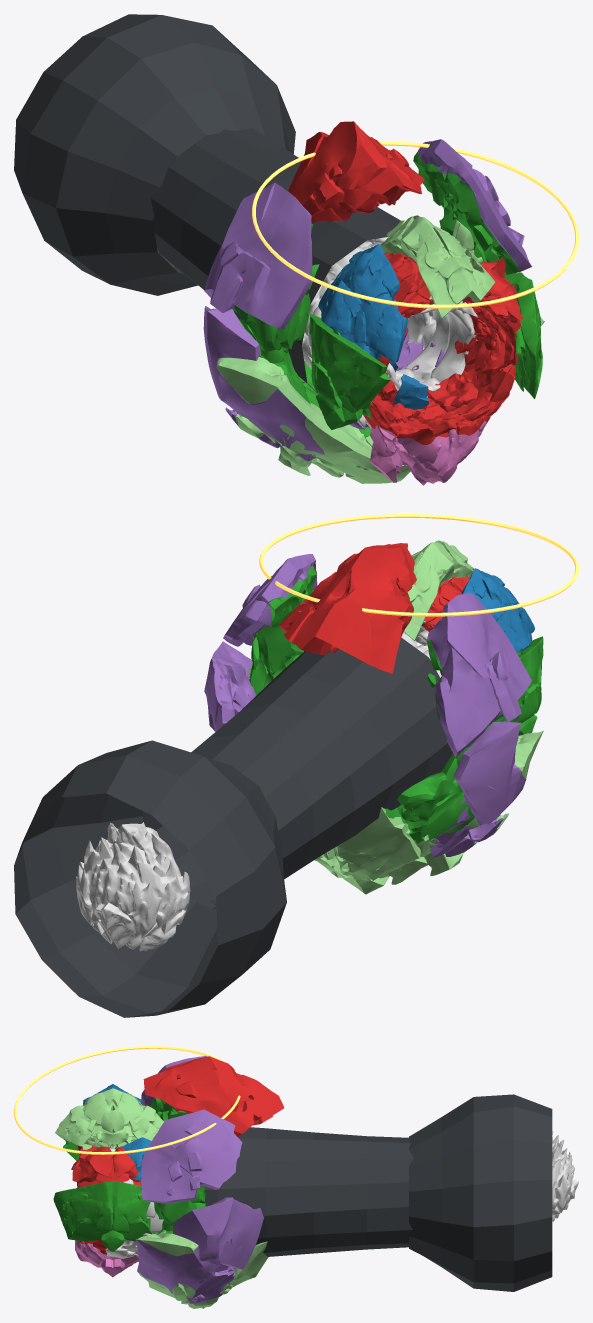
Rendered from DL_Aurora_v01.glb.
The picture shows the model from 3 angles, top to bottom: view 1: azimuth 30°, elevation 25°; view 2: azimuth 150°, elevation 25°; view 3: azimuth 270°, elevation 25°; orthographic projection. The views are drawn at different scales.
Visible parts, largest first — view 1: DL_ThresholdChamber, DL_TunnelShell, DL_MeshyCrown_01, DL_OuterRing_05, DL_OuterRing_03, DL_OuterRing_08, DL_OuterRing_09, DL_MeshyCrown_04, DL_MeshyCrown_03, DL_OuterRing_06, DL_MeshyCrown_05, DL_MeshyCrown_06 (+8 smaller); view 2: DL_ThresholdChamber, DL_TunnelShell, DL_LatentShell, DL_OuterRing_03, DL_OuterRing_05, DL_OuterRing_09, DL_OuterRing_08, DL_OuterRing_06, DL_OuterRing_07, DL_OuterRing_02, DL_MeshyCrown_03, DL_Halo (+3 smaller); view 3: DL_ThresholdChamber, DL_TunnelShell, DL_OuterRing_07, DL_OuterRing_02, DL_OuterRing_03, DL_MeshyCrown_02, DL_MeshyCrown_03, DL_OuterRing_08, DL_MeshyCrown_01, DL_Halo, DL_LatentShell, DL_OuterRing_09 (+4 smaller).
Part boxes in pixels (left/top/right/bottom): DL_ThresholdChamber: left=14, top=14, right=295, bottom=295; DL_TunnelShell: left=150, top=128, right=400, bottom=393; DL_MeshyCrown_01: left=363, top=252, right=523, bottom=445; DL_OuterRing_05: left=204, top=182, right=312, bottom=329; DL_OuterRing_03: left=288, top=121, right=424, bottom=222; DL_OuterRing_08: left=216, top=316, right=543, bottom=483; DL_OuterRing_09: left=232, top=152, right=519, bottom=437; DL_MeshyCrown_04: left=318, top=244, right=407, bottom=362; DL_MeshyCrown_03: left=380, top=215, right=495, bottom=318; DL_OuterRing_06: left=203, top=306, right=324, bottom=461; DL_MeshyCrown_05: left=309, top=314, right=390, bottom=429; DL_MeshyCrown_06: left=367, top=421, right=487, bottom=485; DL_ThresholdChamber: left=14, top=740, right=286, bottom=1017; DL_TunnelShell: left=142, top=637, right=452, bottom=909; DL_LatentShell: left=76, top=822, right=190, bottom=951; DL_OuterRing_03: left=279, top=543, right=416, bottom=673; DL_OuterRing_05: left=427, top=592, right=531, bottom=757; DL_OuterRing_09: left=248, top=566, right=511, bottom=843; DL_OuterRing_08: left=314, top=730, right=543, bottom=894; DL_OuterRing_06: left=430, top=721, right=530, bottom=857; DL_OuterRing_07: left=204, top=641, right=256, bottom=731; DL_OuterRing_02: left=223, top=554, right=317, bottom=646; DL_MeshyCrown_03: left=404, top=540, right=474, bottom=640; DL_Halo: left=259, top=514, right=578, bottom=616; DL_ThresholdChamber: left=409, top=1094, right=552, bottom=1291; DL_TunnelShell: left=204, top=1127, right=413, bottom=1256; DL_OuterRing_07: left=135, top=1197, right=264, bottom=1304; DL_OuterRing_02: left=141, top=1109, right=242, bottom=1203; DL_OuterRing_03: left=143, top=1056, right=284, bottom=1137; DL_MeshyCrown_02: left=53, top=1181, right=155, bottom=1251; DL_MeshyCrown_03: left=55, top=1088, right=163, bottom=1149; DL_OuterRing_08: left=136, top=1230, right=268, bottom=1308; DL_MeshyCrown_01: left=71, top=1145, right=141, bottom=1254; DL_Halo: left=14, top=1046, right=240, bottom=1154; DL_LatentShell: left=552, top=1130, right=578, bottom=1221; DL_OuterRing_09: left=149, top=1098, right=205, bottom=1234.
Bounding box in the file's own units: 6.25 × 6.88 × 14.01.
